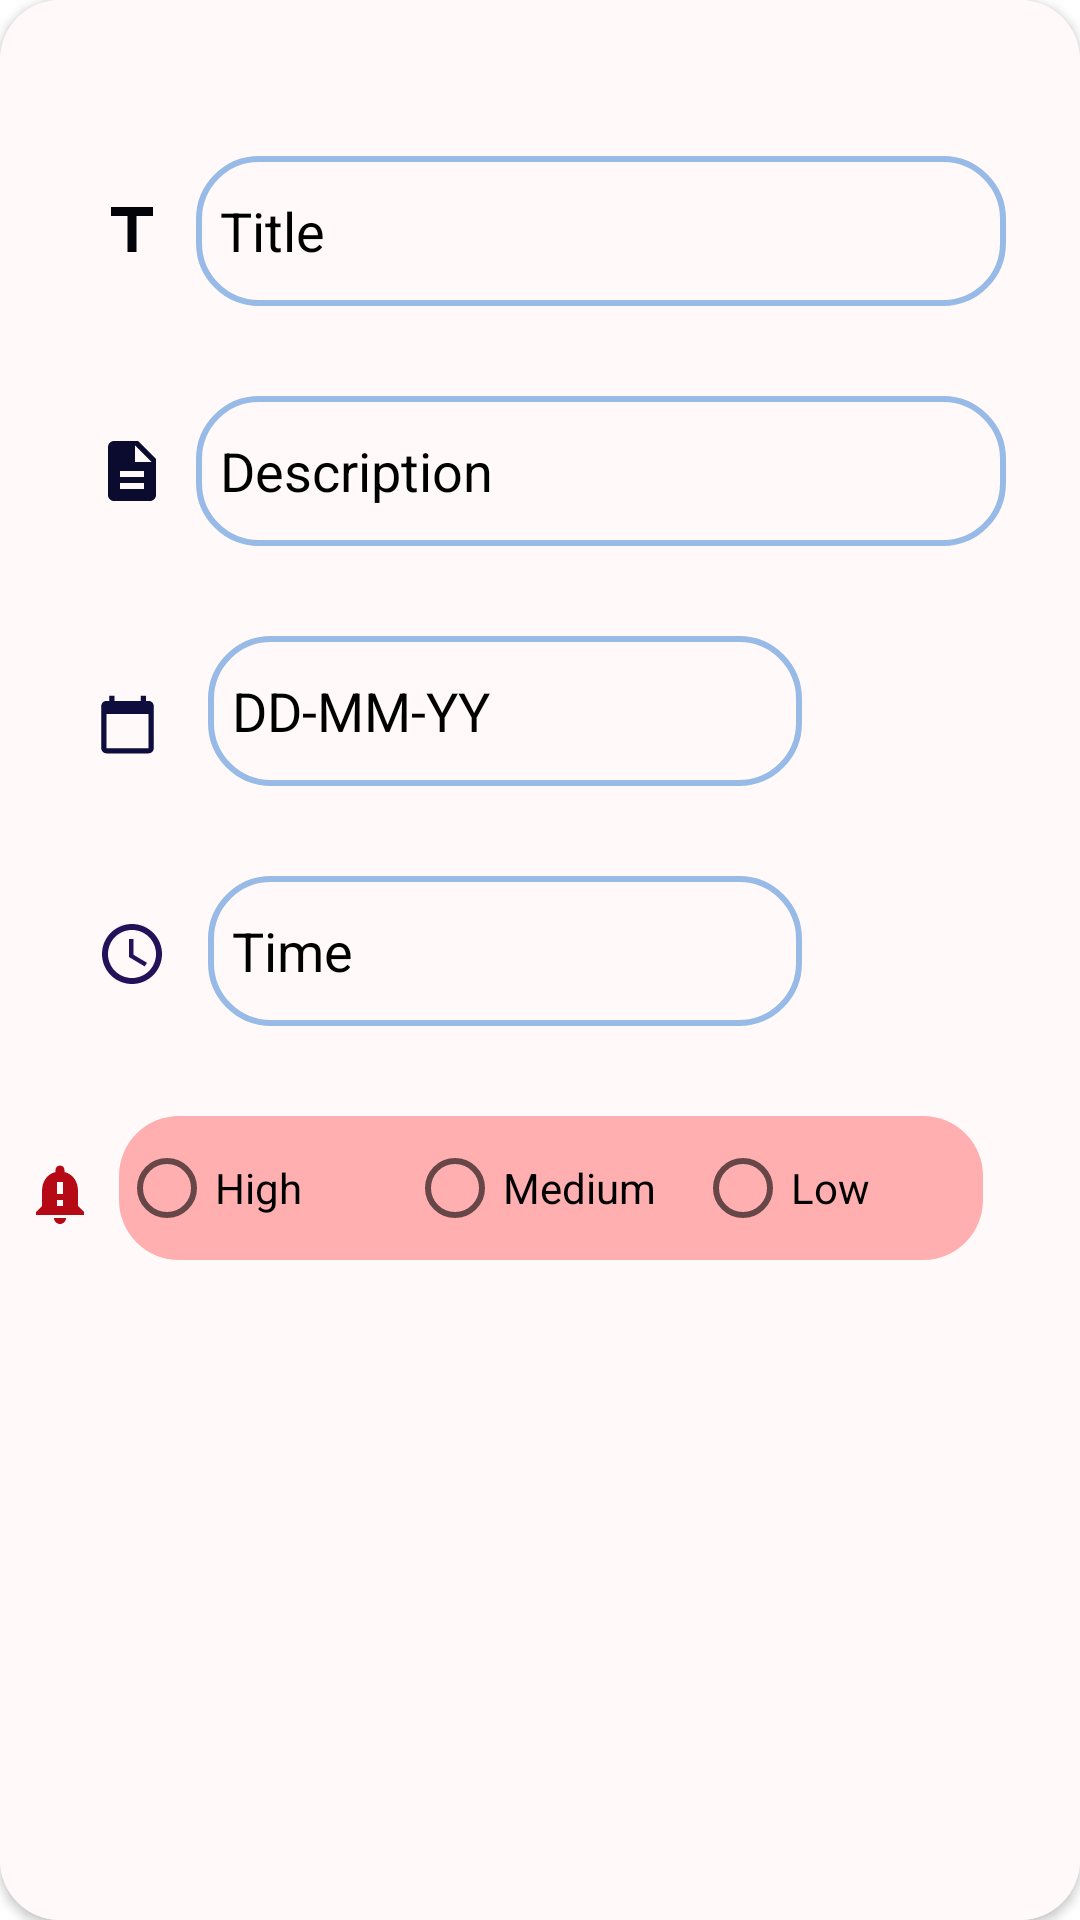

Icon click points for this 1080*1920 phone screenshot, format (x=x, y=y):
calender: (x=127, y=724)
Priority bell: (x=60, y=1194)
